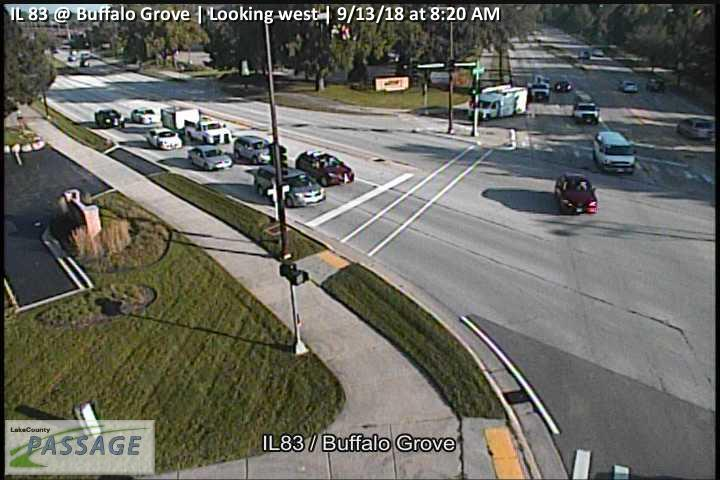SUV: (593, 132, 637, 175), (555, 173, 598, 215), (234, 136, 274, 165), (573, 101, 600, 124), (94, 109, 122, 129), (131, 108, 156, 125)
Sedan: (254, 164, 327, 208), (295, 149, 355, 188), (187, 144, 232, 170), (677, 117, 714, 141), (147, 128, 182, 150), (620, 81, 638, 92)
Truck: (160, 104, 233, 149), (469, 83, 528, 121)
